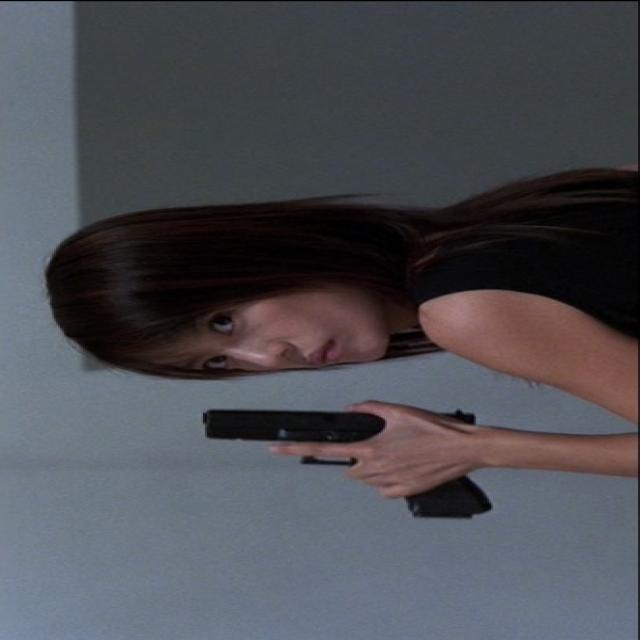weapons: (168, 392, 522, 523)
